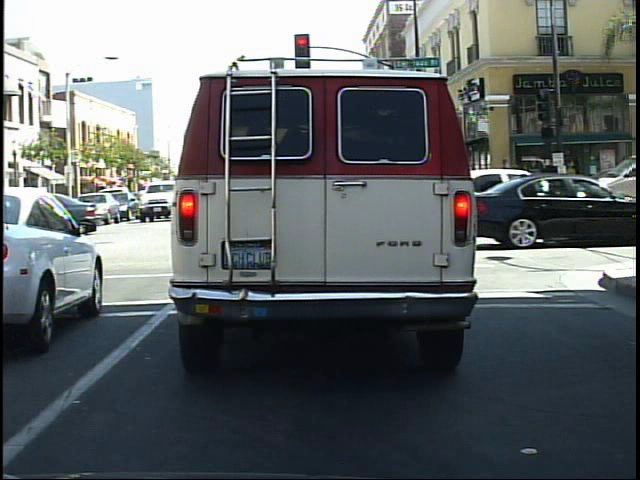person: (536, 154, 565, 219), (516, 157, 541, 213), (496, 155, 516, 212), (508, 161, 526, 212)
